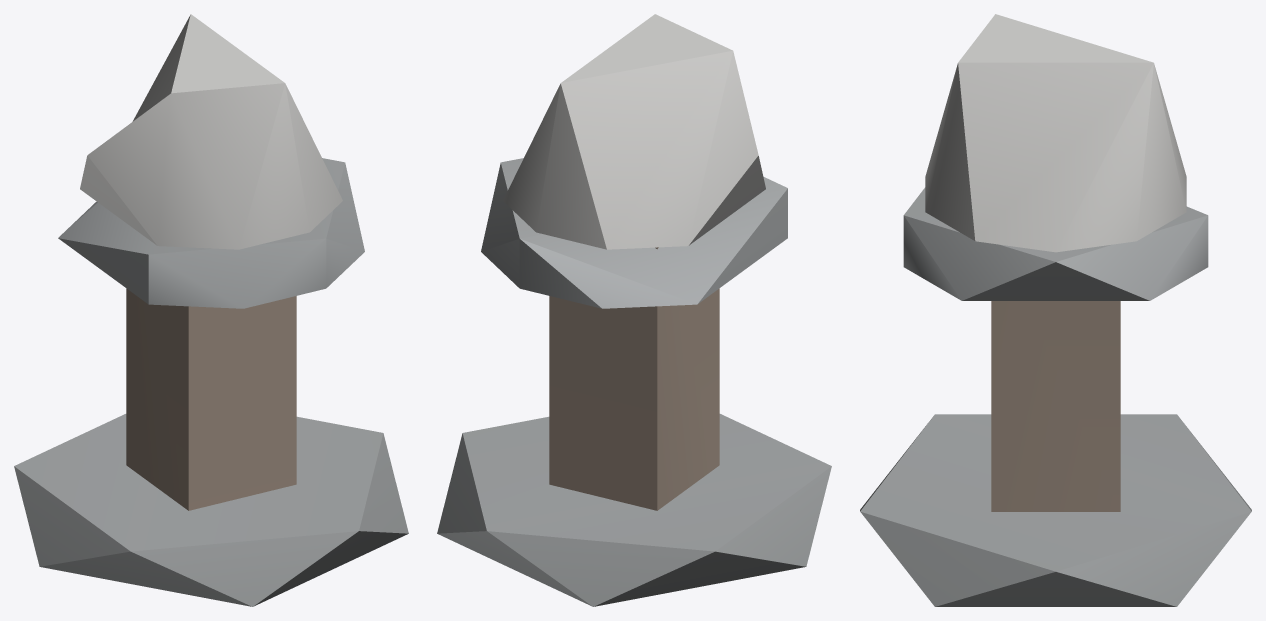
The model's file is edge.lod1.glb.
The picture shows the model from 3 angles, left to right: view 1: azimuth 30°, elevation 25°; view 2: azimuth 150°, elevation 25°; view 3: azimuth 270°, elevation 25°; orthographic projection. The views are drawn at different scales.
Bounding box in the file's own units: 0.36 × 0.47 × 0.3424.
